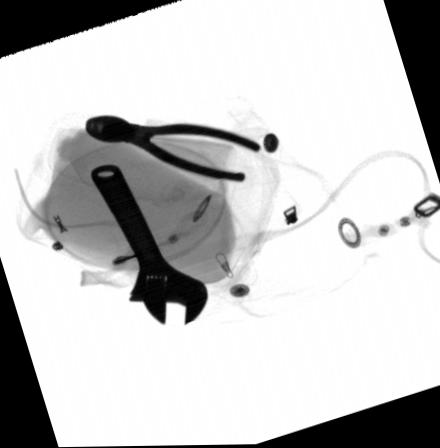Pliers: (83, 115, 260, 182)
Wrench: (90, 165, 209, 325)
